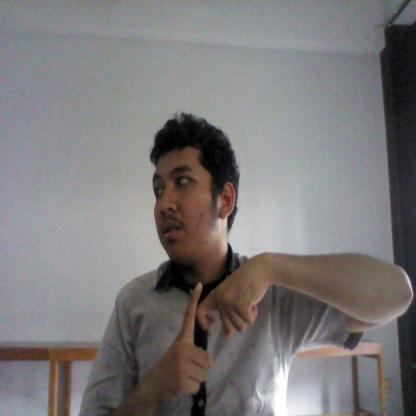K: (164, 248, 282, 398)
